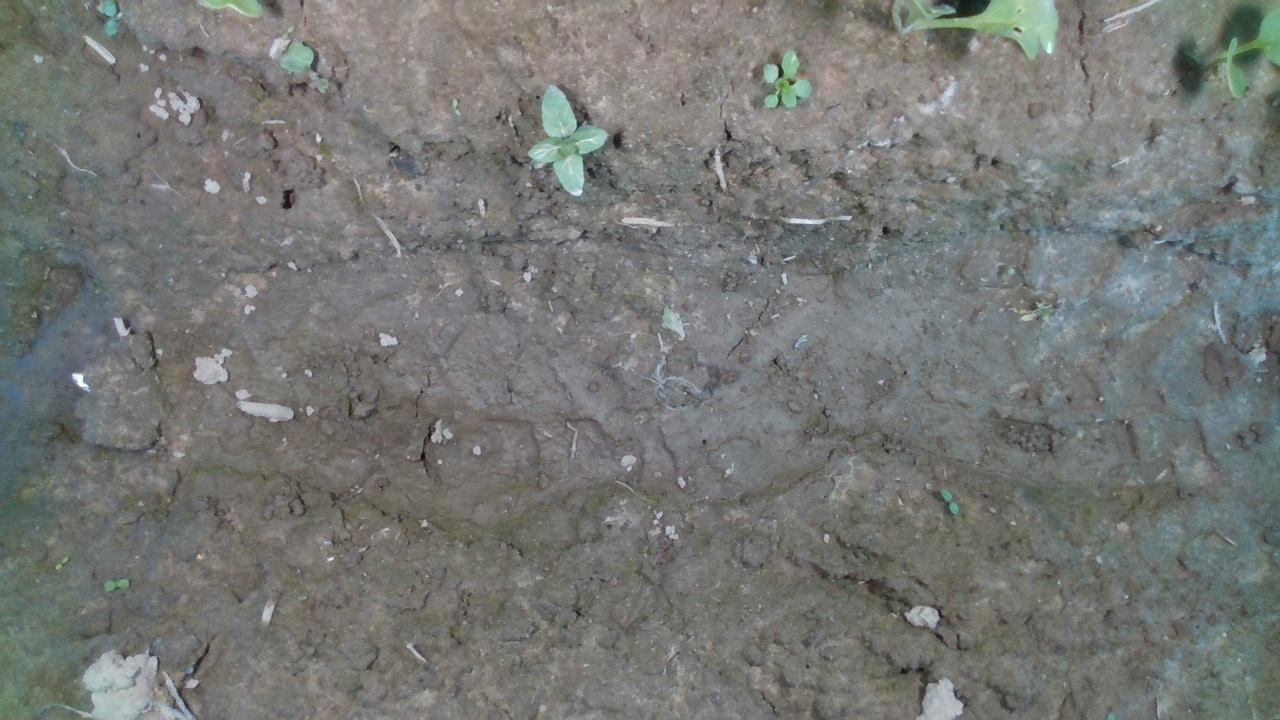weed: (929, 483, 967, 517), (97, 575, 142, 593), (48, 554, 74, 569)
